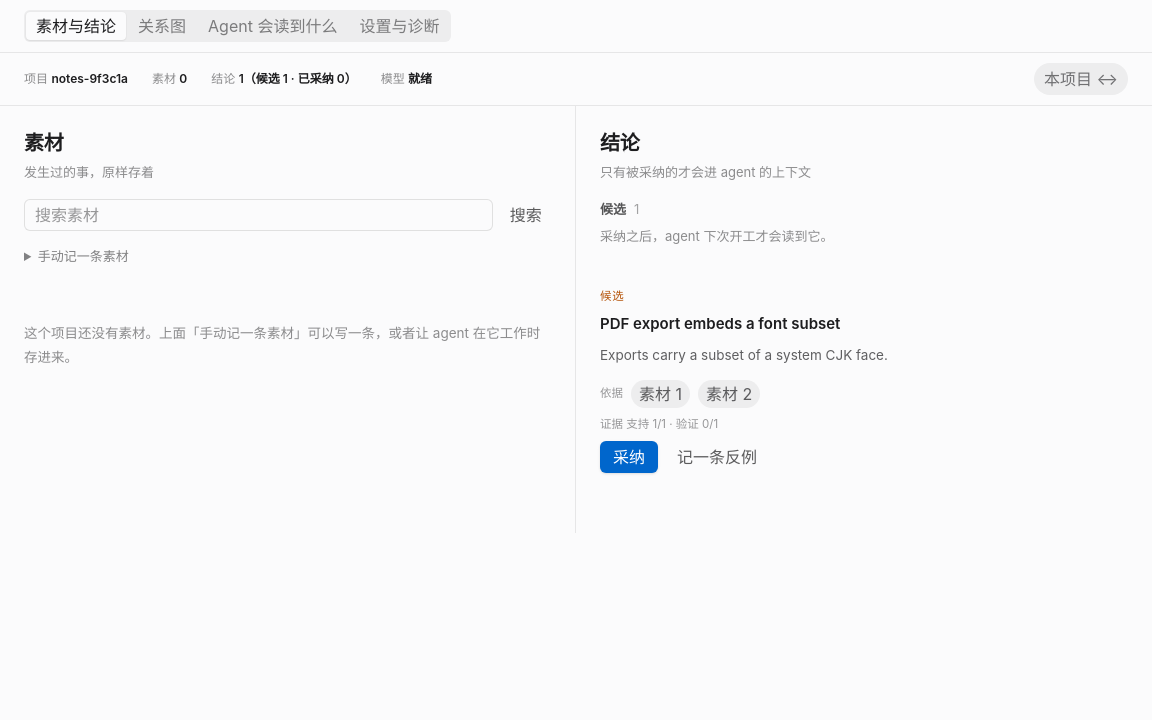
Scenario: MemoryPanel › reports where an adoption was recorded when it succeeds
Step 1. Click the button "采纳" → {"x": 629, "y": 457}, box x1=600 y1=441 x2=658 y2=473
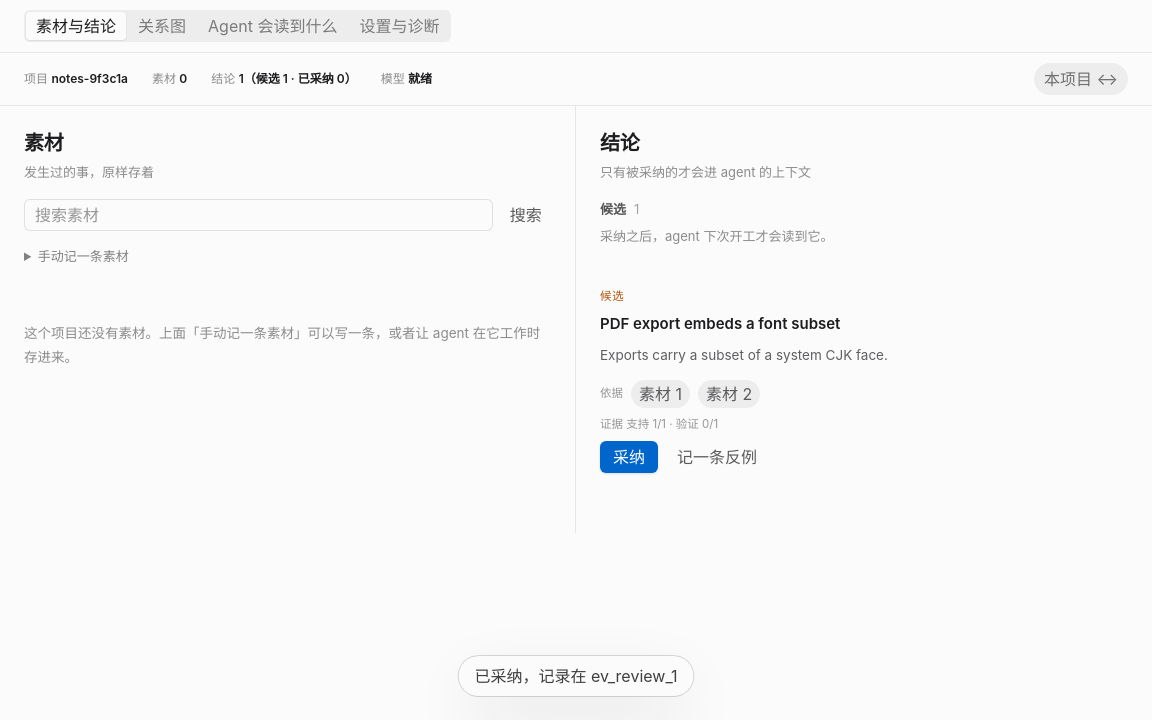
Now the text "ev_review_1" is shown, box x1=458 y1=656 x2=693 y2=696
